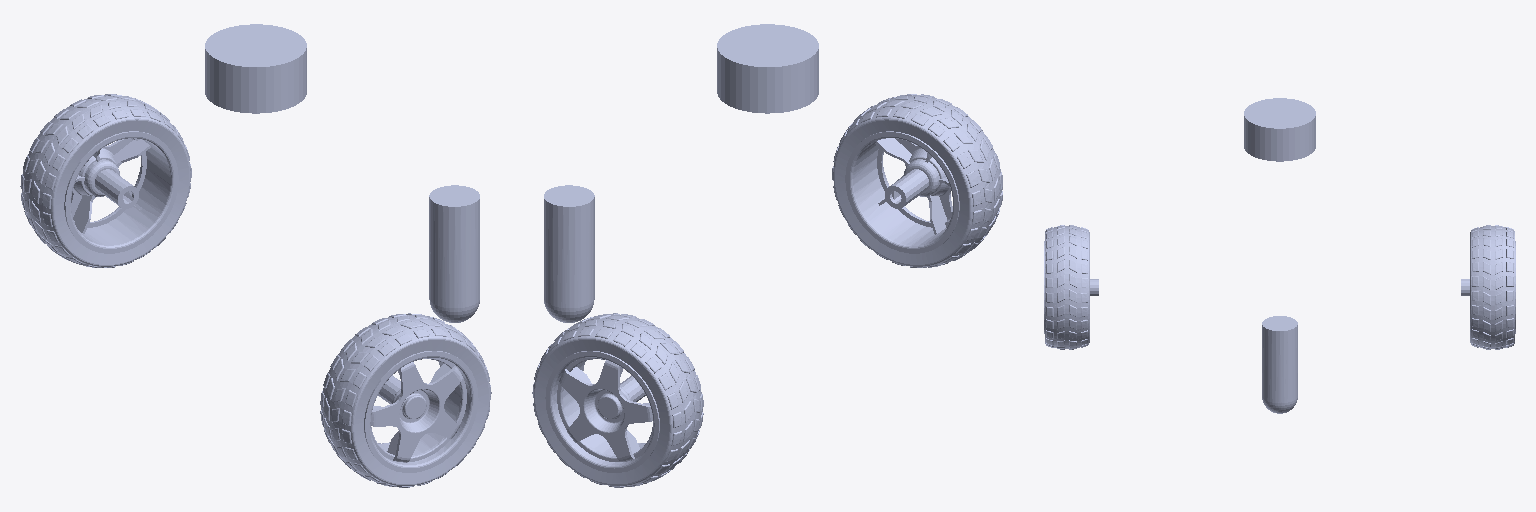
robot.urdf — Assem1.SLDASM:
<?xml version="1.0" encoding="utf-8"?>
<!-- This URDF was automatically created by SolidWorks to URDF Exporter! Originally created by [author] ([email redacted]) 
     Commit Version: 1.6.0-4-g7f85cfe  Build Version: 1.6.7995.38578
     For more information, please see http://wiki.ros.org/sw_urdf_exporter -->
<robot
  name="Assem1.SLDASM">
  <link
    name="base_link">
    <inertial>
      <origin
        xyz="-5.0444E-05 9.8899E-18 0.017107"
        rpy="0 0 0" />
      <mass
        value="0.27407" />
      <inertia
        ixx="0.00068152"
        ixy="-7.0425E-23"
        ixz="-3.0993E-22"
        iyy="0.00067974"
        iyz="1.1361E-19"
        izz="0.001077" />
    </inertial>
    <visual>
      <origin
        xyz="0 0 0"
        rpy="0 0 0" />
      <geometry>
        <mesh
          filename="package://Assem1.SLDASM/meshes/base_link.STL" />
      </geometry>
      <material
        name="">
        <color
          rgba="0.1098 0.1098 0.1098 1" />
      </material>
    </visual>
    <collision>
      <origin
        xyz="0 0 0"
        rpy="0 0 0" />
      <geometry>
        <mesh
          filename="package://Assem1.SLDASM/meshes/base_link.STL" />
      </geometry>
    </collision>
  </link>
  <link
    name="BackCasterLink">
    <inertial>
      <origin
        xyz="1.3878E-17 -1.2874E-35 0.017513"
        rpy="0 0 0" />
      <mass
        value="0.015897" />
      <inertia
        ixx="3.8221E-06"
        ixy="2.1372E-39"
        ixz="-2.2251E-23"
        iyy="3.8221E-06"
        iyz="4.0851E-39"
        izz="7.7388E-07" />
    </inertial>
    <visual>
      <origin
        xyz="0 0 0"
        rpy="0 0 0" />
      <geometry>
        <mesh
          filename="package://Assem1.SLDASM/meshes/BackCasterLink.STL" />
      </geometry>
      <material
        name="">
        <color
          rgba="0.79216 0.81961 0.93333 1" />
      </material>
    </visual>
    <collision>
      <origin
        xyz="0 0 0"
        rpy="0 0 0" />
      <geometry>
        <mesh
          filename="package://Assem1.SLDASM/meshes/BackCasterLink.STL" />
      </geometry>
    </collision>
  </link>
  <joint
    name="back_caster_joint"
    type="continuous">
    <origin
      xyz="-0.09 0 -0.042868"
      rpy="0 0 0" />
    <parent
      link="base_link" />
    <child
      link="BackCasterLink" />
    <axis
      xyz="0 0 -1" />
    <limit
      lower="-3.14"
      upper="3.14"
      effort="10"
      velocity="10" />
    <dynamics
      damping="0.0001"
      friction="0.0001" />
  </joint>
  <link
    name="RightWheelLink">
    <inertial>
      <origin
        xyz="3.1542E-10 -1.863E-08 -0.007373"
        rpy="0 0 0" />
      <mass
        value="0.16695" />
      <inertia
        ixx="6.7293E-05"
        ixy="1.9509E-10"
        ixz="-5.1237E-14"
        iyy="6.7296E-05"
        iyz="3.2071E-12"
        izz="0.00011321" />
    </inertial>
    <visual>
      <origin
        xyz="0 0 0"
        rpy="0 0 0" />
      <geometry>
        <mesh
          filename="package://Assem1.SLDASM/meshes/RightWheelLink.STL" />
      </geometry>
      <material
        name="">
        <color
          rgba="0.79216 0.81961 0.93333 1" />
      </material>
    </visual>
    <collision>
      <origin
        xyz="0 0 0"
        rpy="0 0 0" />
      <geometry>
        <mesh
          filename="package://Assem1.SLDASM/meshes/RightWheelLink.STL" />
      </geometry>
    </collision>
  </link>
  <joint
    name="right_wheel_joint"
    type="revolute">
    <origin
      xyz="0 -0.1255 -0.02"
      rpy="1.5708 0 0" />
    <parent
      link="base_link" />
    <child
      link="RightWheelLink" />
    <axis
      xyz="0 0 -1" />
    <limit
      lower="-3.14"
      upper="3.14"
      effort="10"
      velocity="10" />
    <dynamics
      damping="1"
      friction="1" />
  </joint>
  <link
    name="FrontCasterLink">
    <inertial>
      <origin
        xyz="1.3878E-17 -1.2874E-35 0.017513"
        rpy="0 0 0" />
      <mass
        value="0.015897" />
      <inertia
        ixx="3.8221E-06"
        ixy="2.1372E-39"
        ixz="-2.2251E-23"
        iyy="3.8221E-06"
        iyz="4.0851E-39"
        izz="7.7388E-07" />
    </inertial>
    <visual>
      <origin
        xyz="0 0 0"
        rpy="0 0 0" />
      <geometry>
        <mesh
          filename="package://Assem1.SLDASM/meshes/FrontCasterLink.STL" />
      </geometry>
      <material
        name="">
        <color
          rgba="0.79216 0.81961 0.93333 1" />
      </material>
    </visual>
    <collision>
      <origin
        xyz="0 0 0"
        rpy="0 0 0" />
      <geometry>
        <mesh
          filename="package://Assem1.SLDASM/meshes/FrontCasterLink.STL" />
      </geometry>
    </collision>
  </link>
  <joint
    name="front_caster_joint"
    type="continuous">
    <origin
      xyz="0.09 0 -0.042868"
      rpy="0 0 0" />
    <parent
      link="base_link" />
    <child
      link="FrontCasterLink" />
    <axis
      xyz="0 0 -1" />
    <limit
      lower="-3.14"
      upper="3.14"
      effort="10"
      velocity="10" />
    <dynamics
      damping="0.0001"
      friction="0.0001" />
  </joint>
  <link
    name="LidarLink">
    <inertial>
      <origin
        xyz="2.0536E-18 -1.491E-20 0.02"
        rpy="0 0 0" />
      <mass
        value="0.025133" />
      <inertia
        ixx="3.351E-06"
        ixy="2.2279E-22"
        ixz="-3.5293E-23"
        iyy="3.351E-06"
        iyz="-1.1516E-37"
        izz="5.0265E-06" />
    </inertial>
    <visual>
      <origin
        xyz="0 0 0"
        rpy="0 0 0" />
      <geometry>
        <mesh
          filename="package://Assem1.SLDASM/meshes/LidarLink.STL" />
      </geometry>
      <material
        name="">
        <color
          rgba="0.79216 0.81961 0.93333 1" />
      </material>
    </visual>
    <collision>
      <origin
        xyz="0 0 0"
        rpy="0 0 0" />
      <geometry>
        <mesh
          filename="package://Assem1.SLDASM/meshes/LidarLink.STL" />
      </geometry>
    </collision>
  </link>
  <joint
    name="lidar_joint"
    type="fixed">
    <origin
      xyz="0 0 0.056"
      rpy="0 0 0" />
    <parent
      link="base_link" />
    <child
      link="LidarLink" />
    <axis
      xyz="0 0 0" />
  </joint>
  <link
    name="LeftWheelLink">
    <inertial>
      <origin
        xyz="7.333E-09 -1.7129E-08 0.007373"
        rpy="0 0 0" />
      <mass
        value="0.16695" />
      <inertia
        ixx="6.7293E-05"
        ixy="-1.516E-09"
        ixz="1.2651E-12"
        iyy="6.7296E-05"
        iyz="-2.9475E-12"
        izz="0.00011321" />
    </inertial>
    <visual>
      <origin
        xyz="0 0 0"
        rpy="0 0 0" />
      <geometry>
        <mesh
          filename="package://Assem1.SLDASM/meshes/LeftWheelLink.STL" />
      </geometry>
      <material
        name="">
        <color
          rgba="0.79216 0.81961 0.93333 1" />
      </material>
    </visual>
    <collision>
      <origin
        xyz="0 0 0"
        rpy="0 0 0" />
      <geometry>
        <mesh
          filename="package://Assem1.SLDASM/meshes/LeftWheelLink.STL" />
      </geometry>
    </collision>
  </link>
  <joint
    name="left_wheel_joint"
    type="revolute">
    <origin
      xyz="0 0.1255 -0.02"
      rpy="1.5708 0 0" />
    <parent
      link="base_link" />
    <child
      link="LeftWheelLink" />
    <axis
      xyz="0 0 1" />
    <limit
      lower="-3.14"
      upper="3.14"
      effort="10"
      velocity="10" />
    <dynamics
      damping="1"
      friction="1" />
  </joint>
</robot>

--- Facts derived from the render (not from the file) ---
3 views of the same robot in one strip: view 1: azimuth 30°, elevation 25°; view 2: azimuth 150°, elevation 25°; view 3: azimuth 270°, elevation 25° (orthographic).
Model Assem1.SLDASM with 6 links and 5 joints (2 revolute, 2 continuous, 1 fixed), rooted at base_link, posed every joint at zero.
Visible links, largest first — view 1: RightWheelLink, LeftWheelLink, LidarLink, FrontCasterLink; view 2: LeftWheelLink, RightWheelLink, LidarLink, FrontCasterLink; view 3: RightWheelLink, LeftWheelLink, LidarLink, FrontCasterLink.
Link boxes in pixels (<box>): RightWheelLink: <box>320,313,491,487</box>; LeftWheelLink: <box>20,94,191,267</box>; LidarLink: <box>205,24,306,113</box>; FrontCasterLink: <box>429,185,479,322</box>; LeftWheelLink: <box>532,313,703,487</box>; RightWheelLink: <box>832,94,1002,267</box>; LidarLink: <box>717,24,818,113</box>; FrontCasterLink: <box>544,185,594,322</box>; RightWheelLink: <box>1044,225,1098,349</box>; LeftWheelLink: <box>1461,225,1515,349</box>; LidarLink: <box>1244,98,1315,161</box>; FrontCasterLink: <box>1262,316,1297,413</box>.
Size in the robot's own frame: 0.1345 by 0.26 by 0.1405 metres.
Meshes: 6 distinct files referenced, 4 mesh visuals loaded (4 binary STL); not drawn: 2 (reference not matched to a file when rendering).